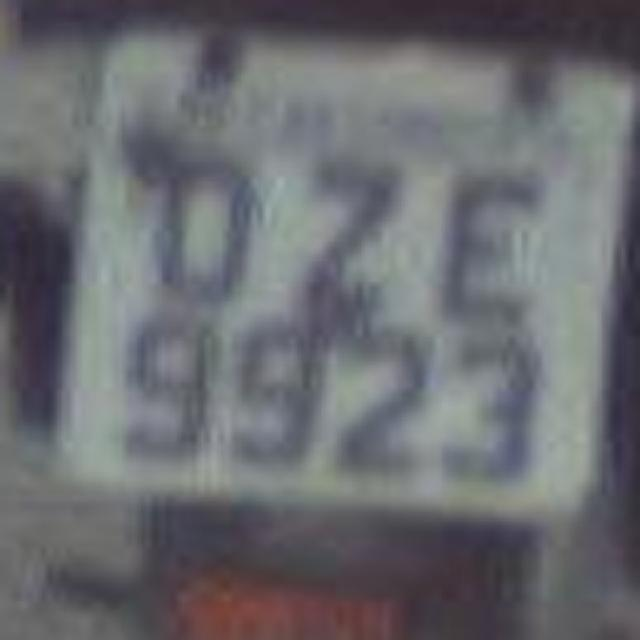2: (316, 304, 456, 491)
3: (425, 304, 560, 491)
9: (209, 292, 336, 480), (108, 288, 224, 484)
E: (428, 155, 540, 320)
O: (136, 140, 256, 315)
Z: (284, 151, 404, 304)
